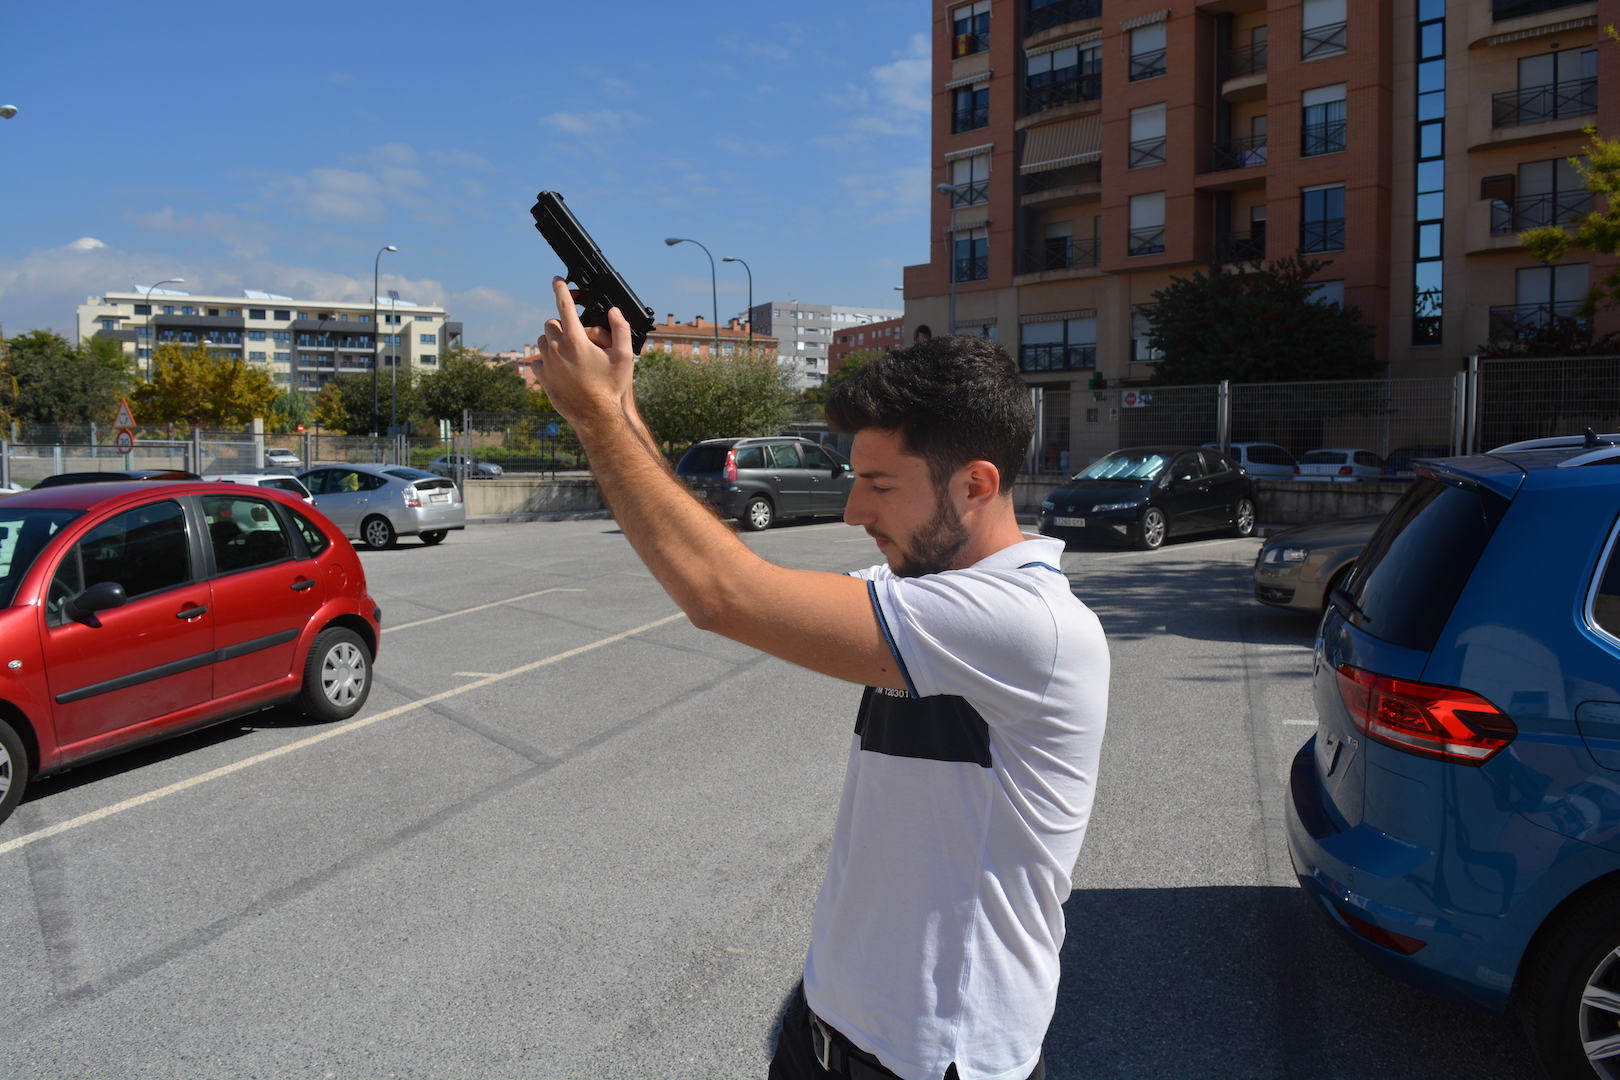pistol: (529, 190, 658, 358)
